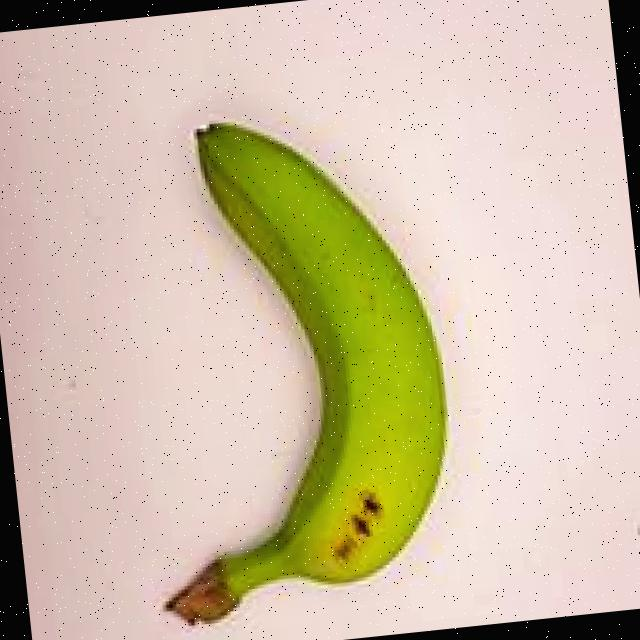Unripe: (55, 60, 505, 640)
